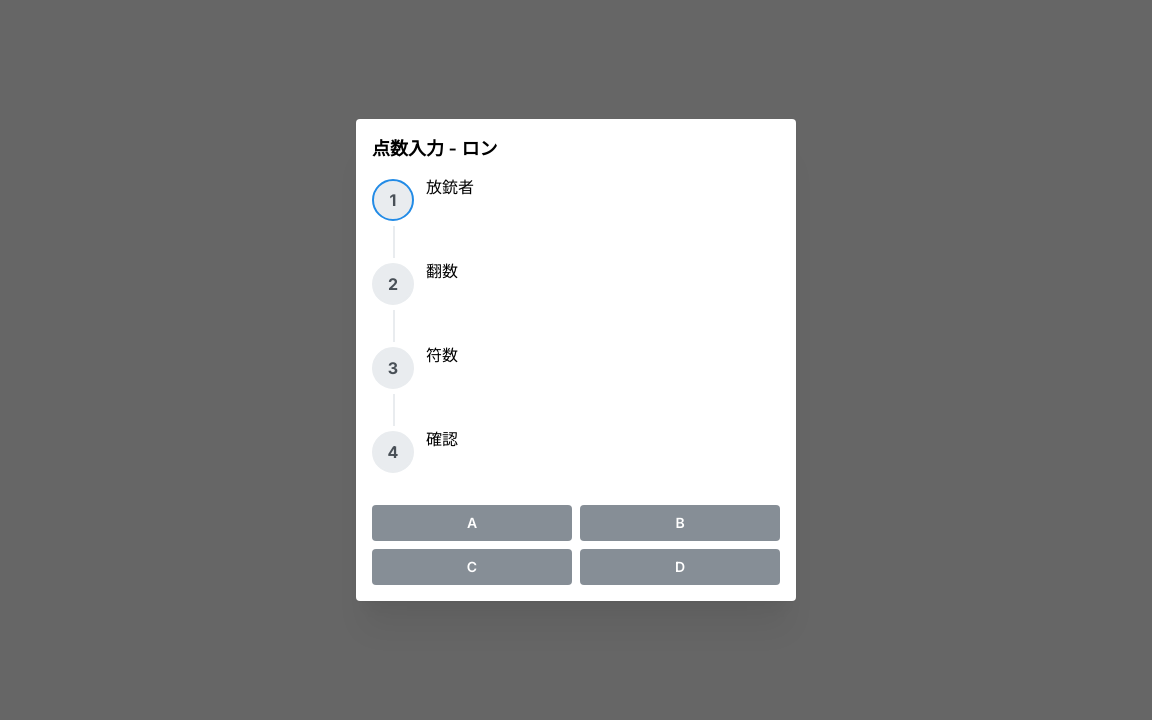
ScoreInputForm › handles stepper navigation
Expected: the text "放銃者" is shown, [426,179,474,195]
放銃者を選択して次のステップへ
Click the button "B" at (680, 523), box [580,505,780,541]
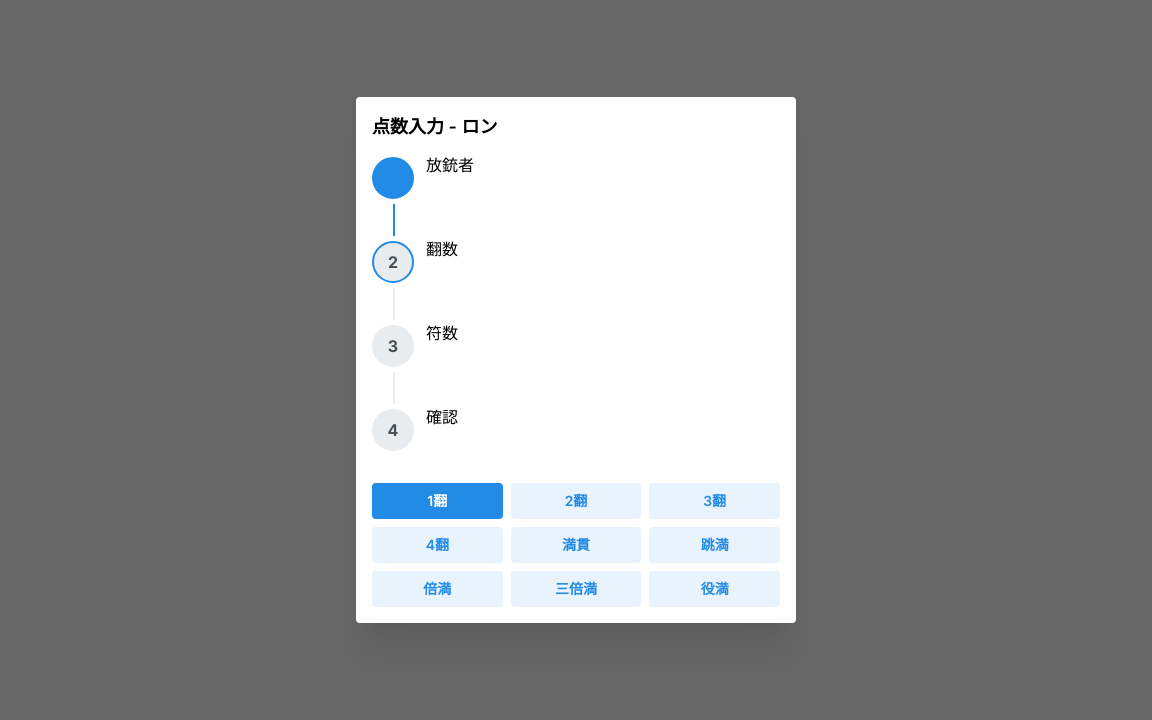
Expected: the button "1翻" is shown, [427,492,447,509]
翻数を選択して符数ステップへ
Click the button "2翻" at (576, 501), box [511,483,641,519]
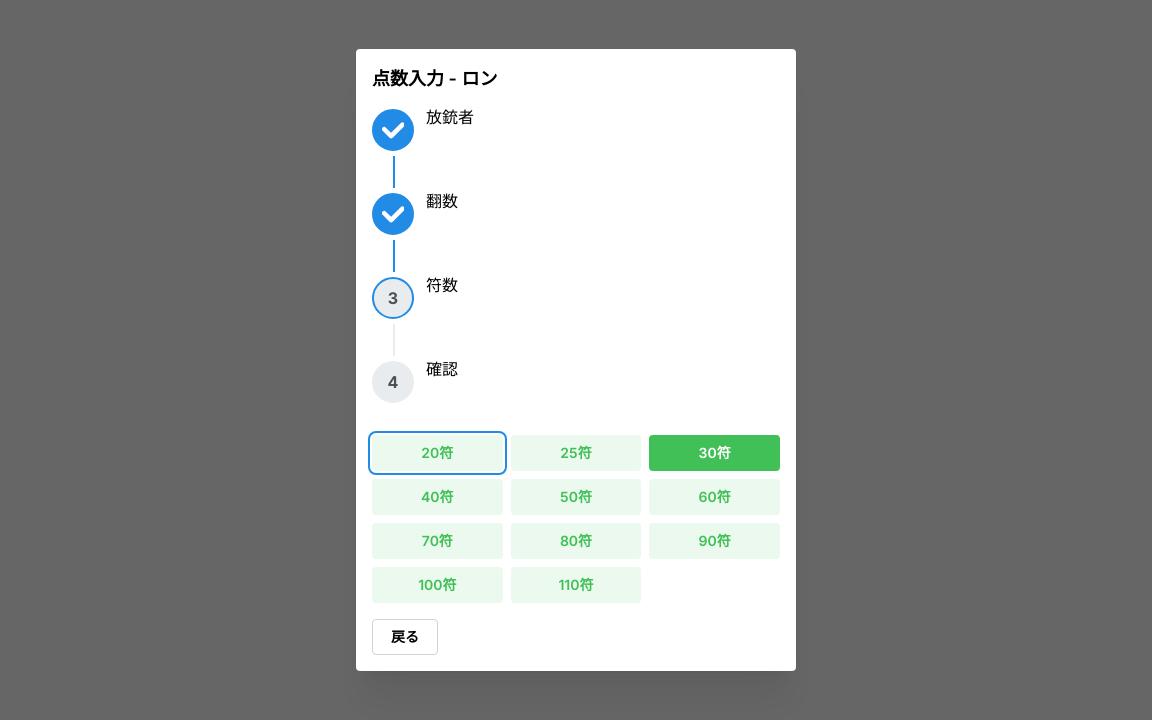
Expected: the button "30符" is shown, [699,444,731,461]
